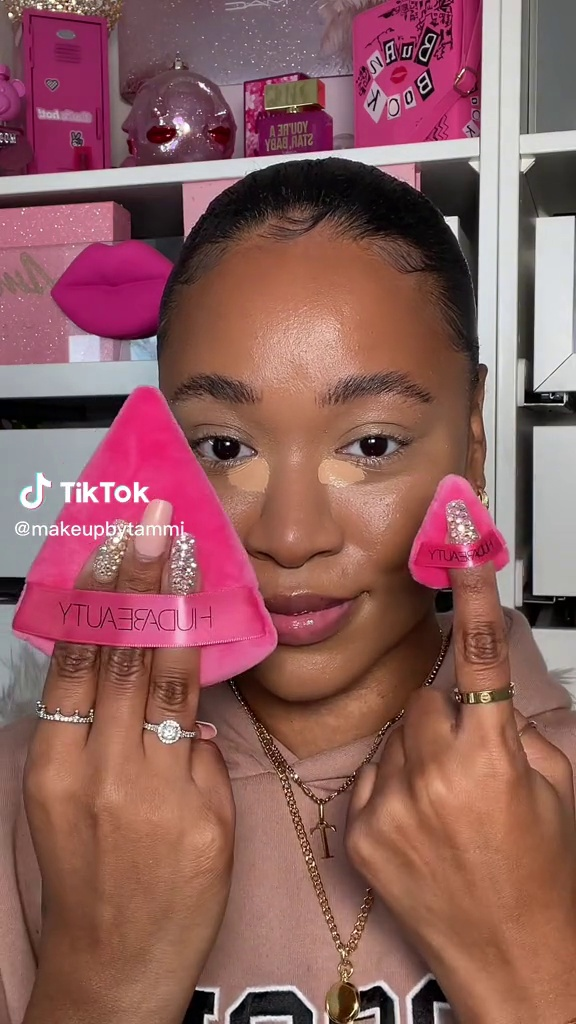train' :'yolo_data/train/images',: (6, 379, 294, 695), (401, 464, 514, 596)
